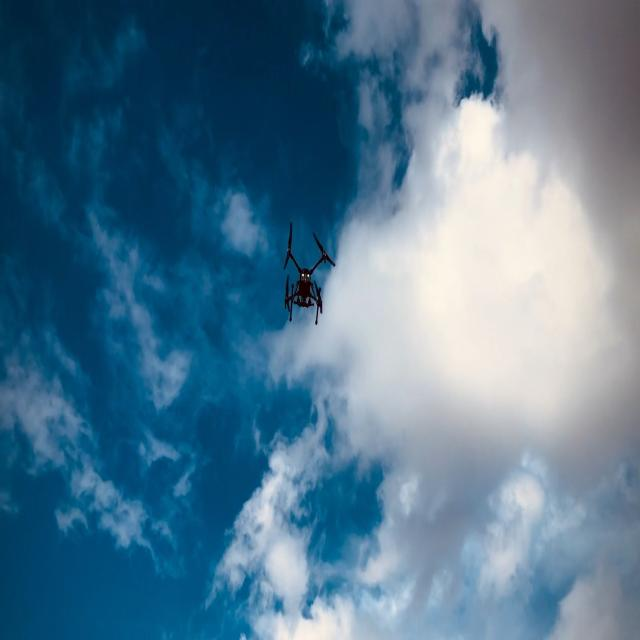drone: (283, 220, 336, 326)
